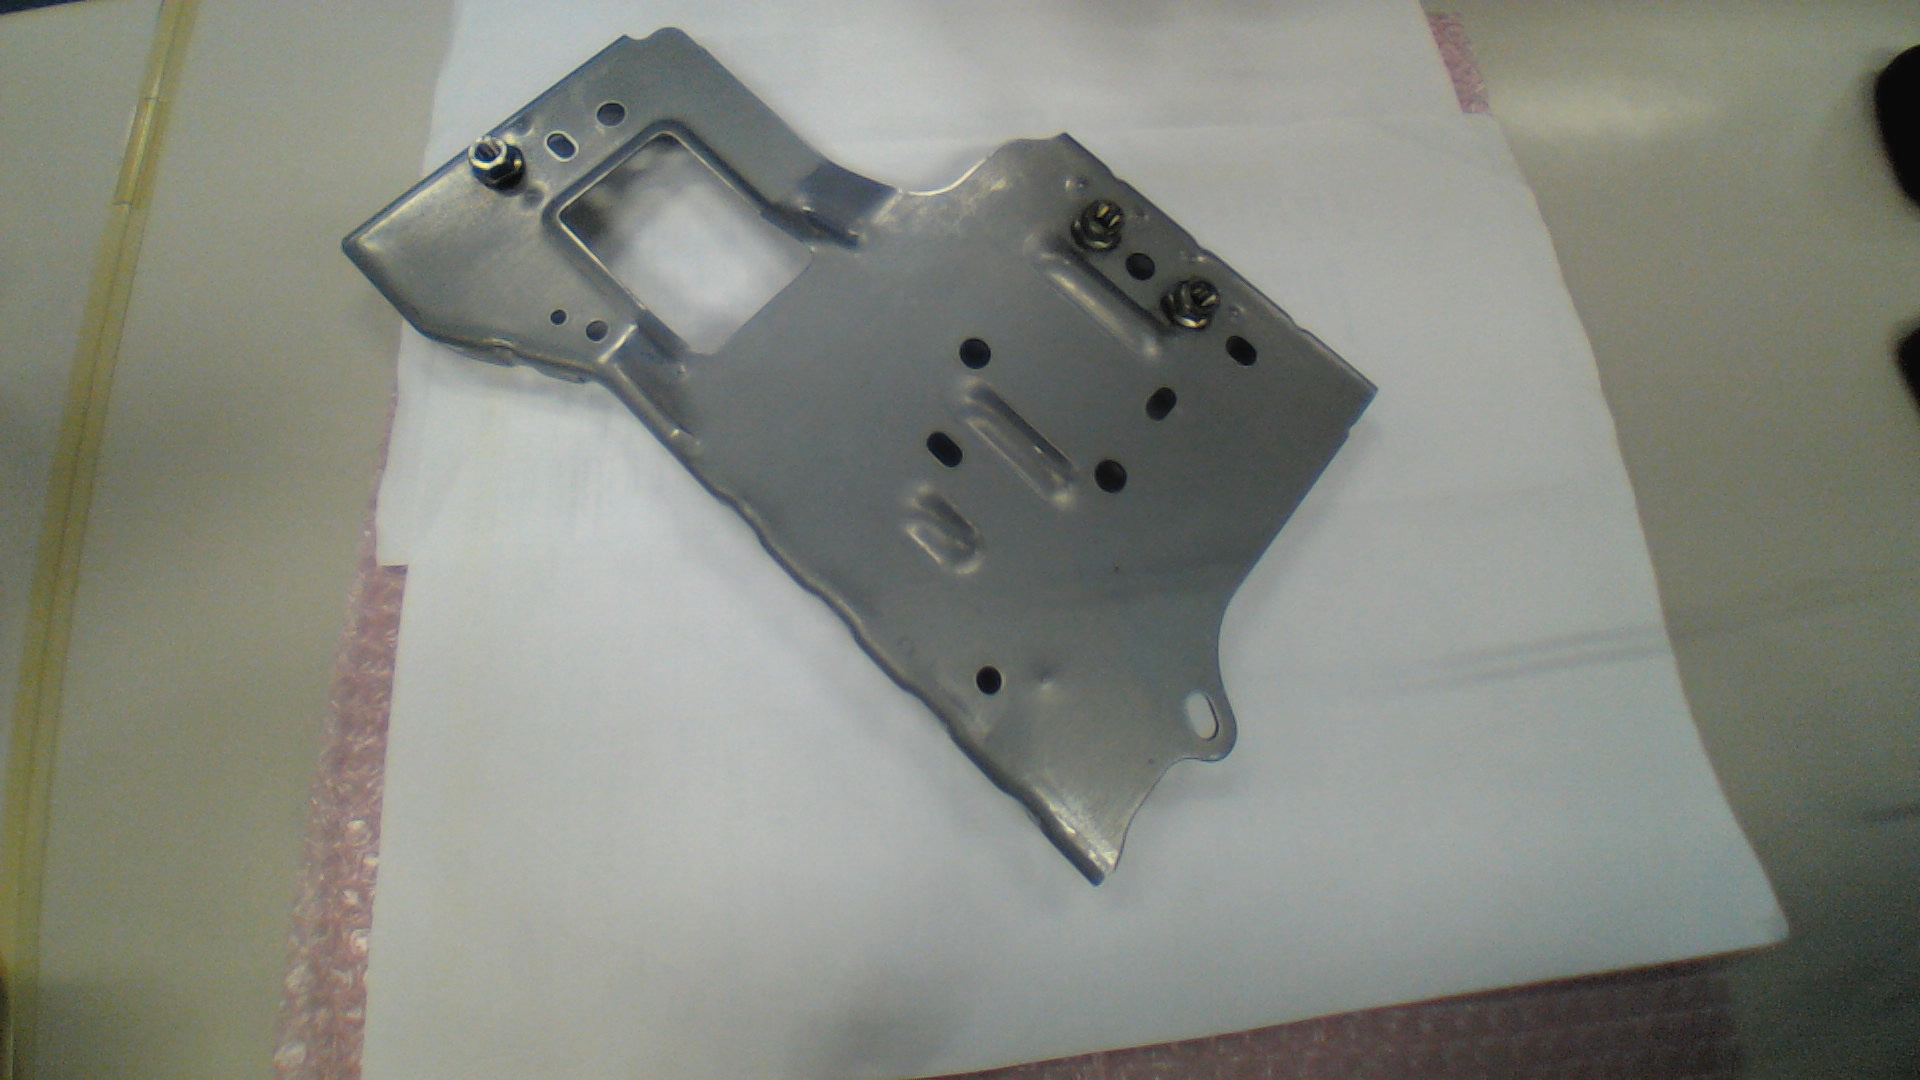dog: (1160, 276, 1221, 332), (465, 135, 527, 189), (1073, 196, 1126, 255)
